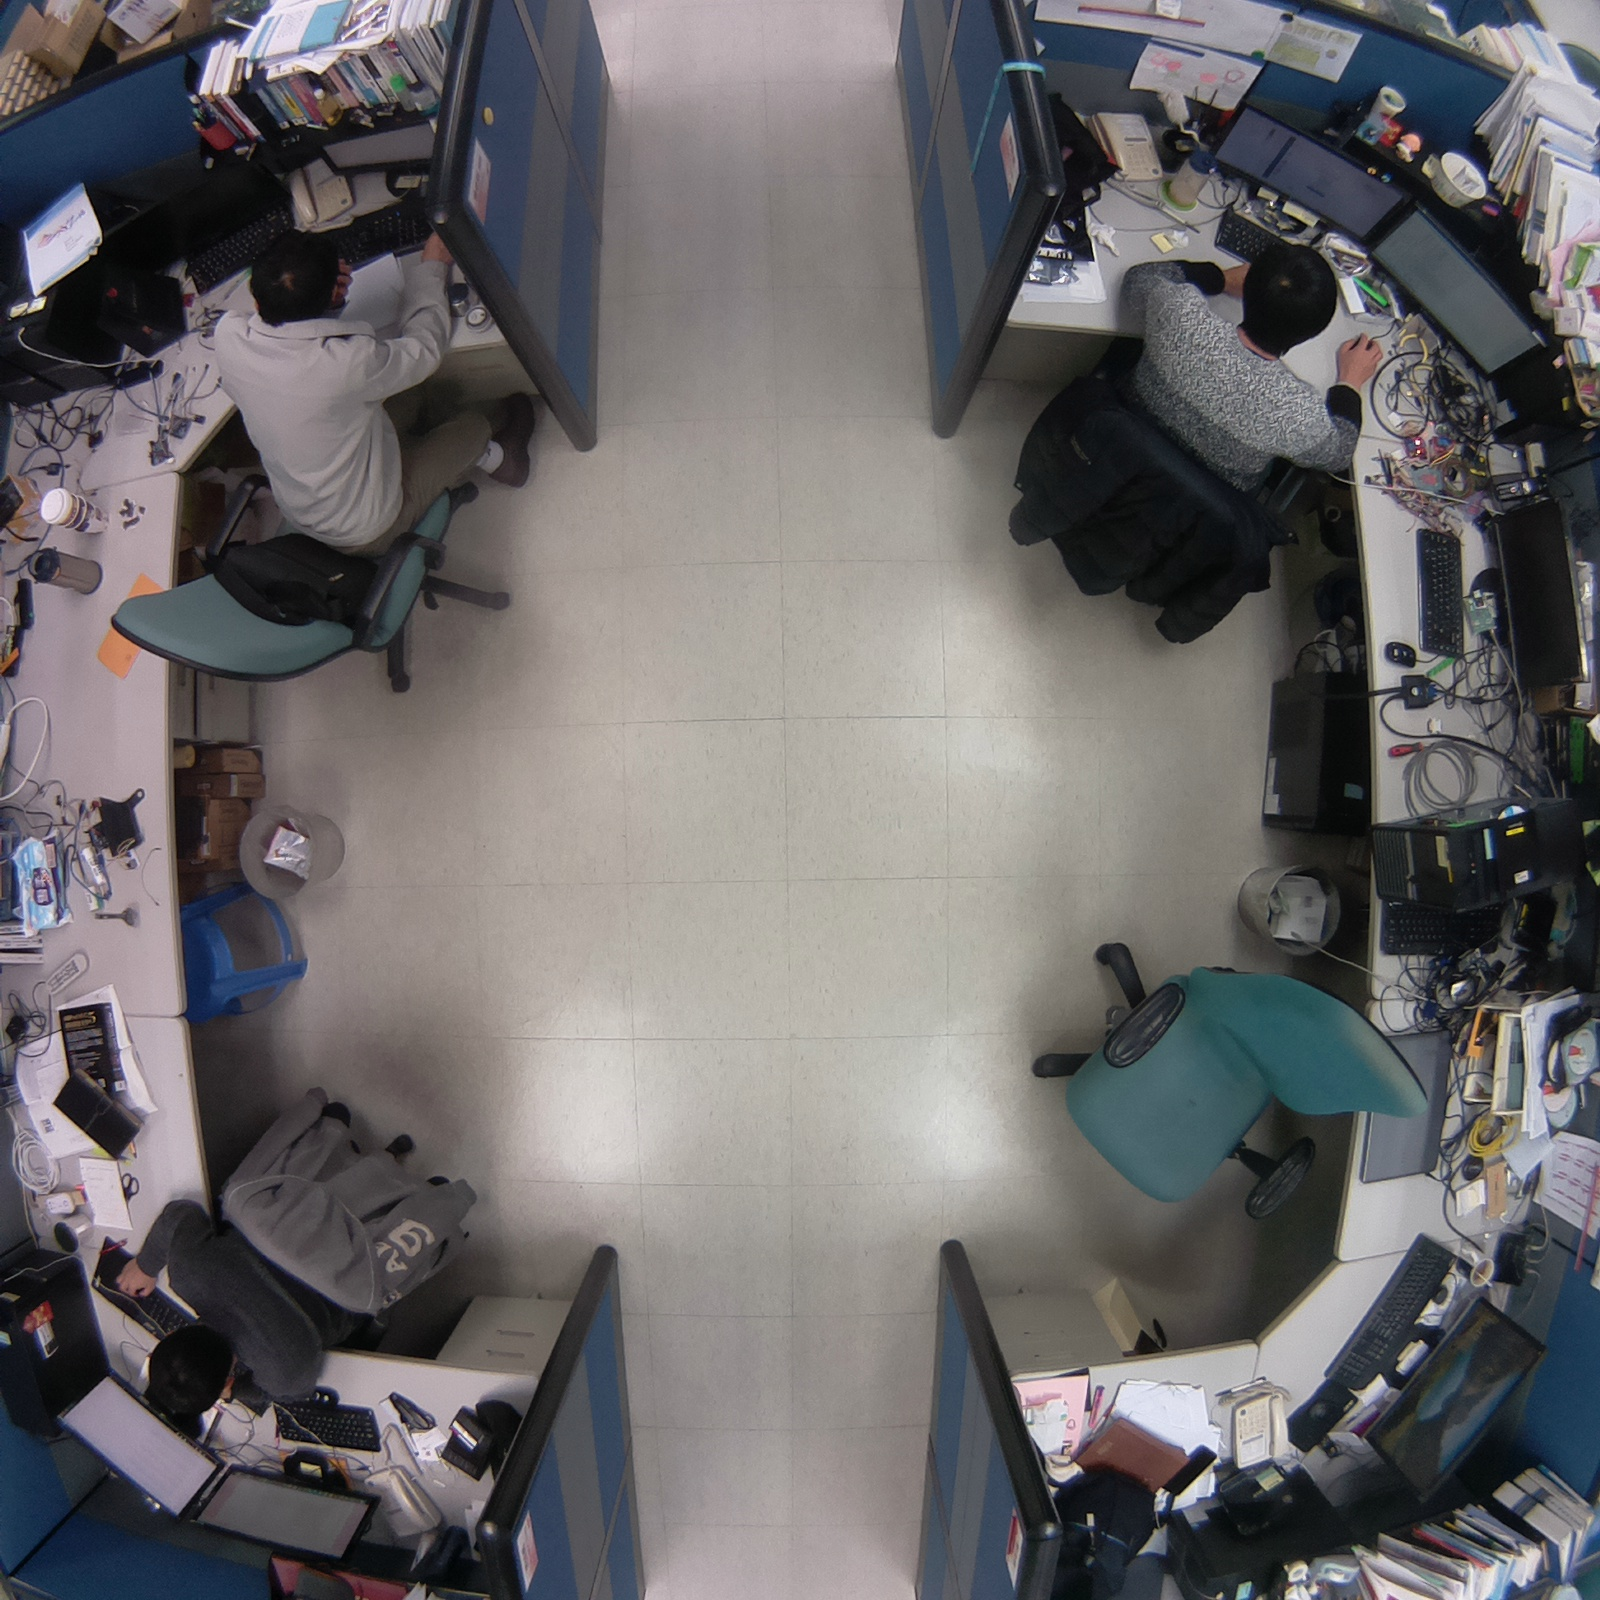chair: (1023, 926, 1446, 1228)
sitting: (86, 204, 547, 709), (982, 229, 1401, 667), (97, 1067, 497, 1453)
